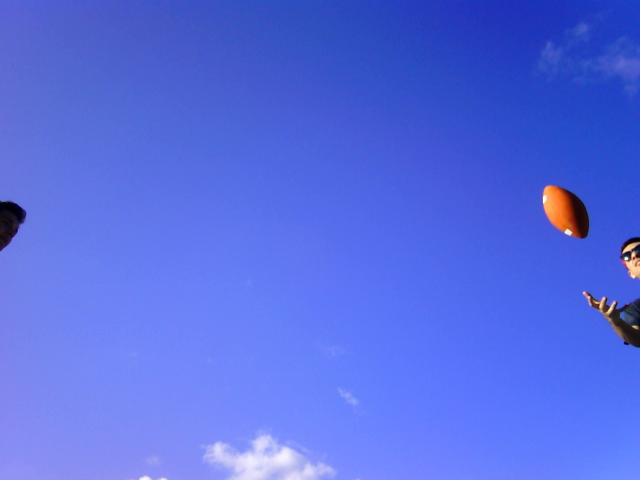football: (538, 182, 593, 247)
